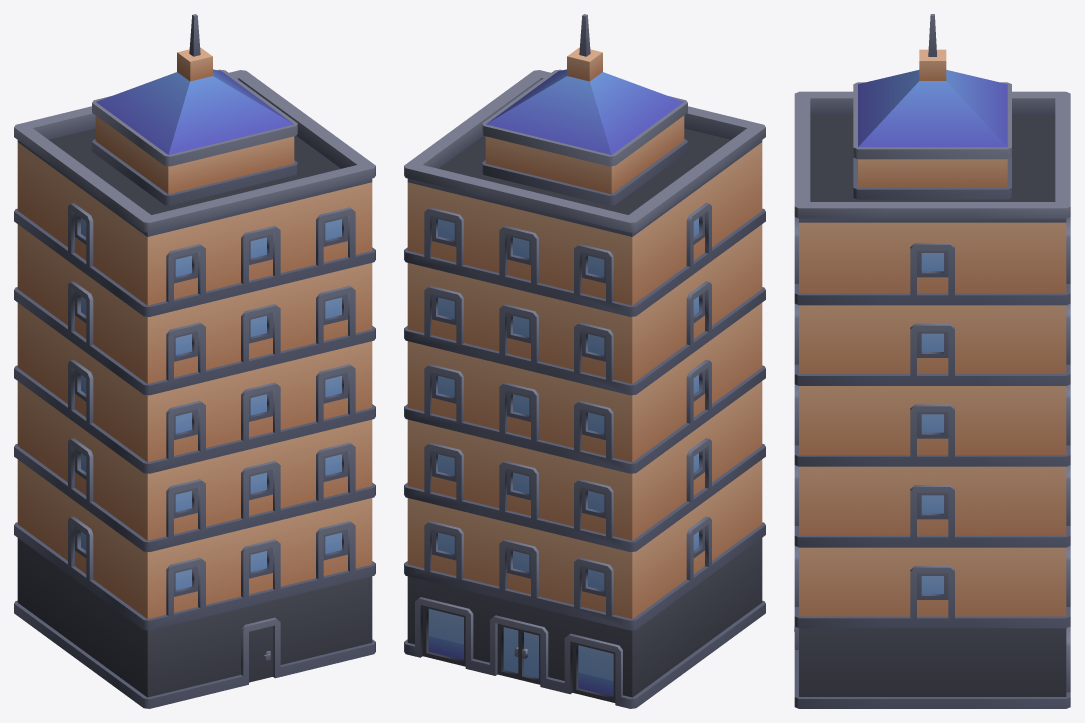
Rendered from building-m.glb.
The picture shows the model from 3 angles, left to right: view 1: azimuth 30°, elevation 25°; view 2: azimuth 150°, elevation 25°; view 3: azimuth 270°, elevation 25°; orthographic projection. The views are drawn at different scales.
Parts seen in each view (by area): view 1: building-m; view 2: building-m; view 3: building-m.
Part boxes in pixels (box(x1,y1,x2,y2)): building-m: box(14, 14, 375, 708); building-m: box(404, 14, 765, 708); building-m: box(794, 14, 1070, 708).
Size of the model in its own units: 1.24 by 3.15 by 1.24.
Materials: 1 (1 with a texture image).
